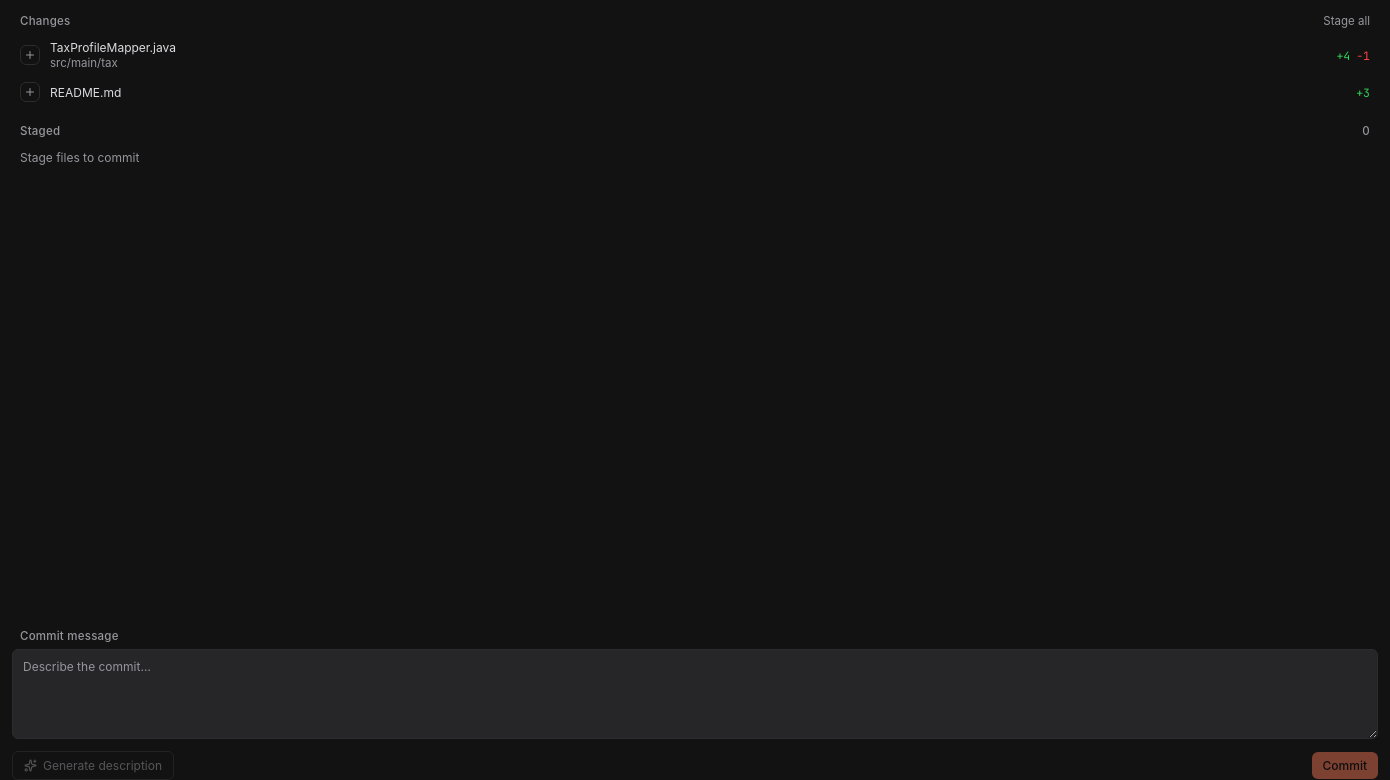
ChangesPanel › a row's button stages it by path, and the lists are read back
Click the button titled "Stage" next to "TaxProfileMapper.java". click: (30, 55)
box: [20,45,40,65]
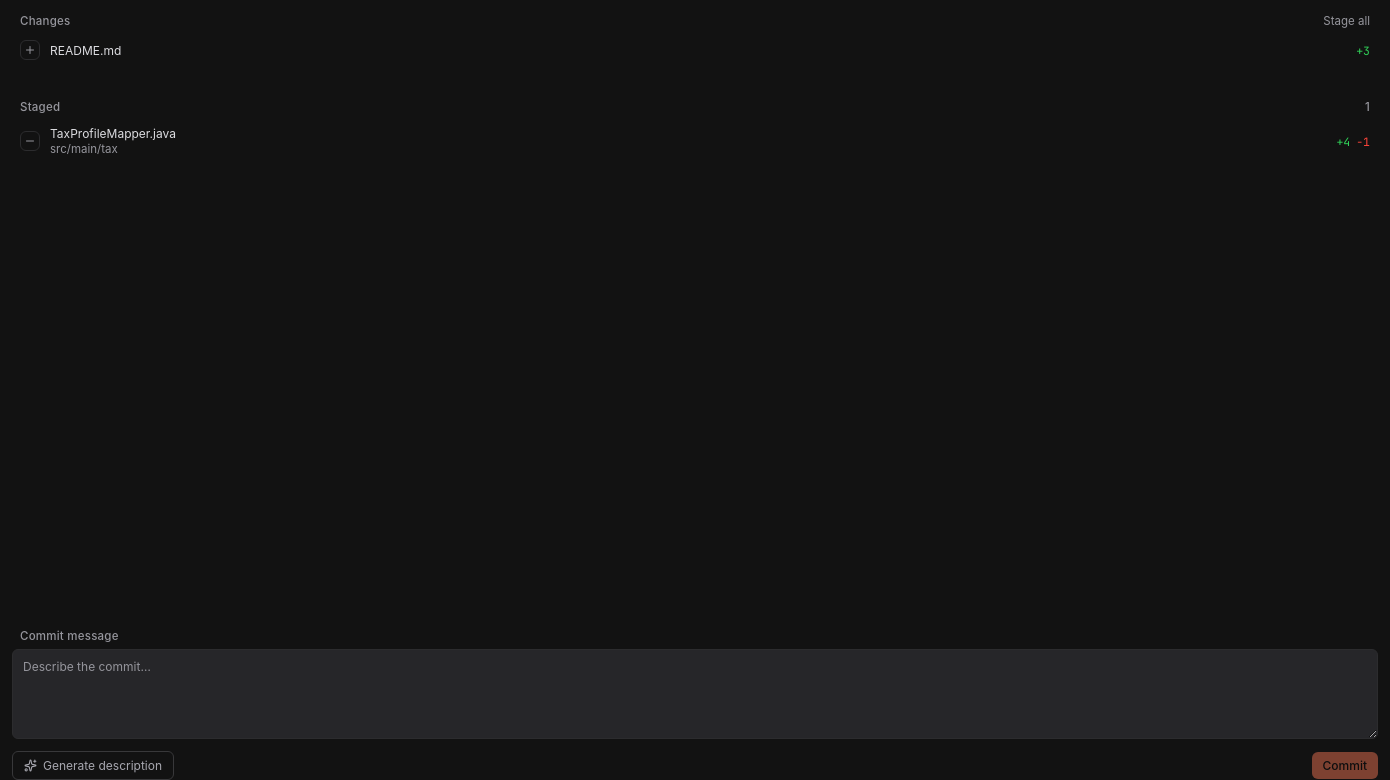
Click the button titled "Unstage". click: (30, 141)
box: [20,131,40,151]
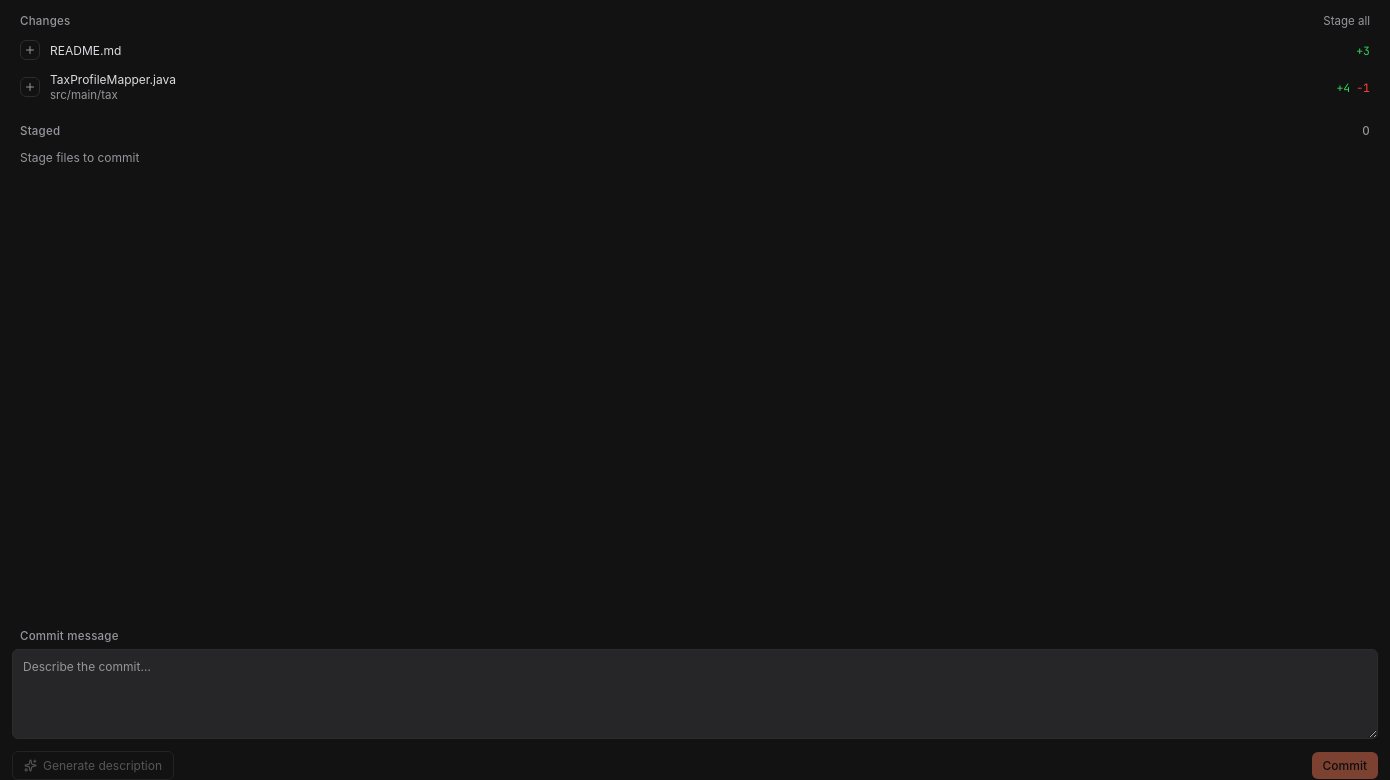
Expected: the button titled "Unstage" is gone
